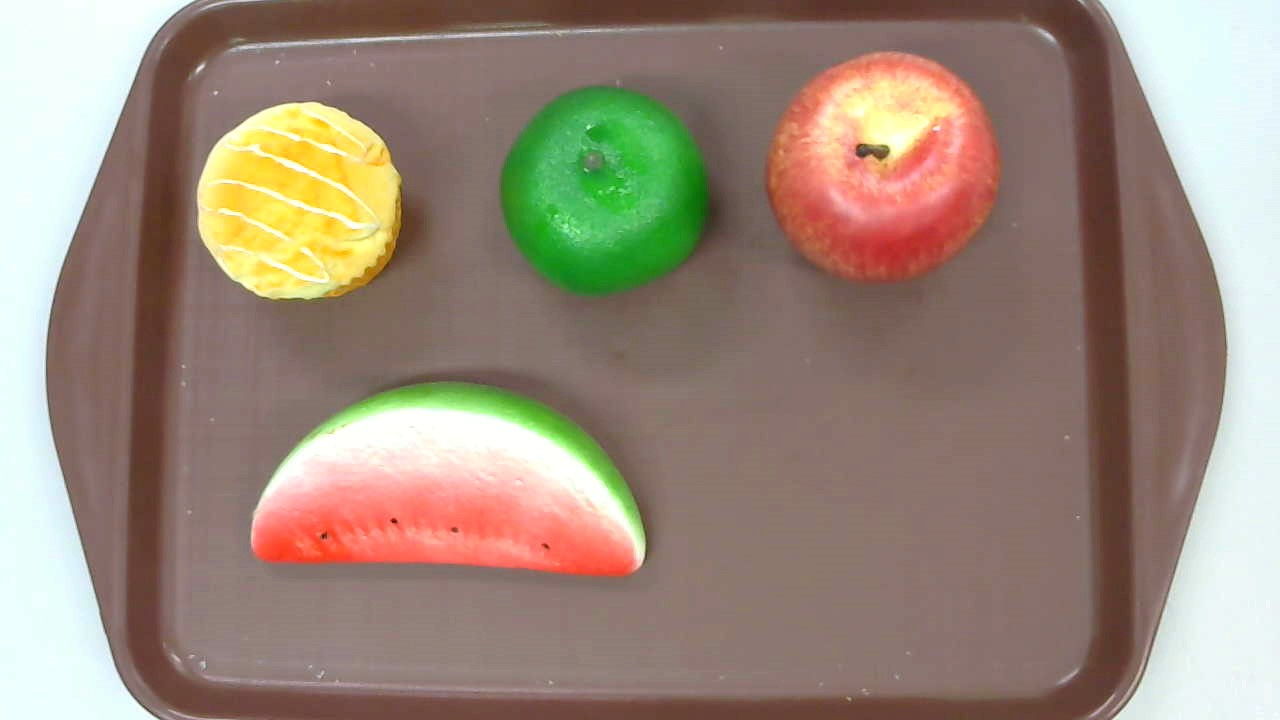cupcake: (197, 100, 403, 302)
green orange: (499, 85, 710, 301)
red apple: (765, 51, 1000, 284)
water melon: (250, 380, 646, 577)
